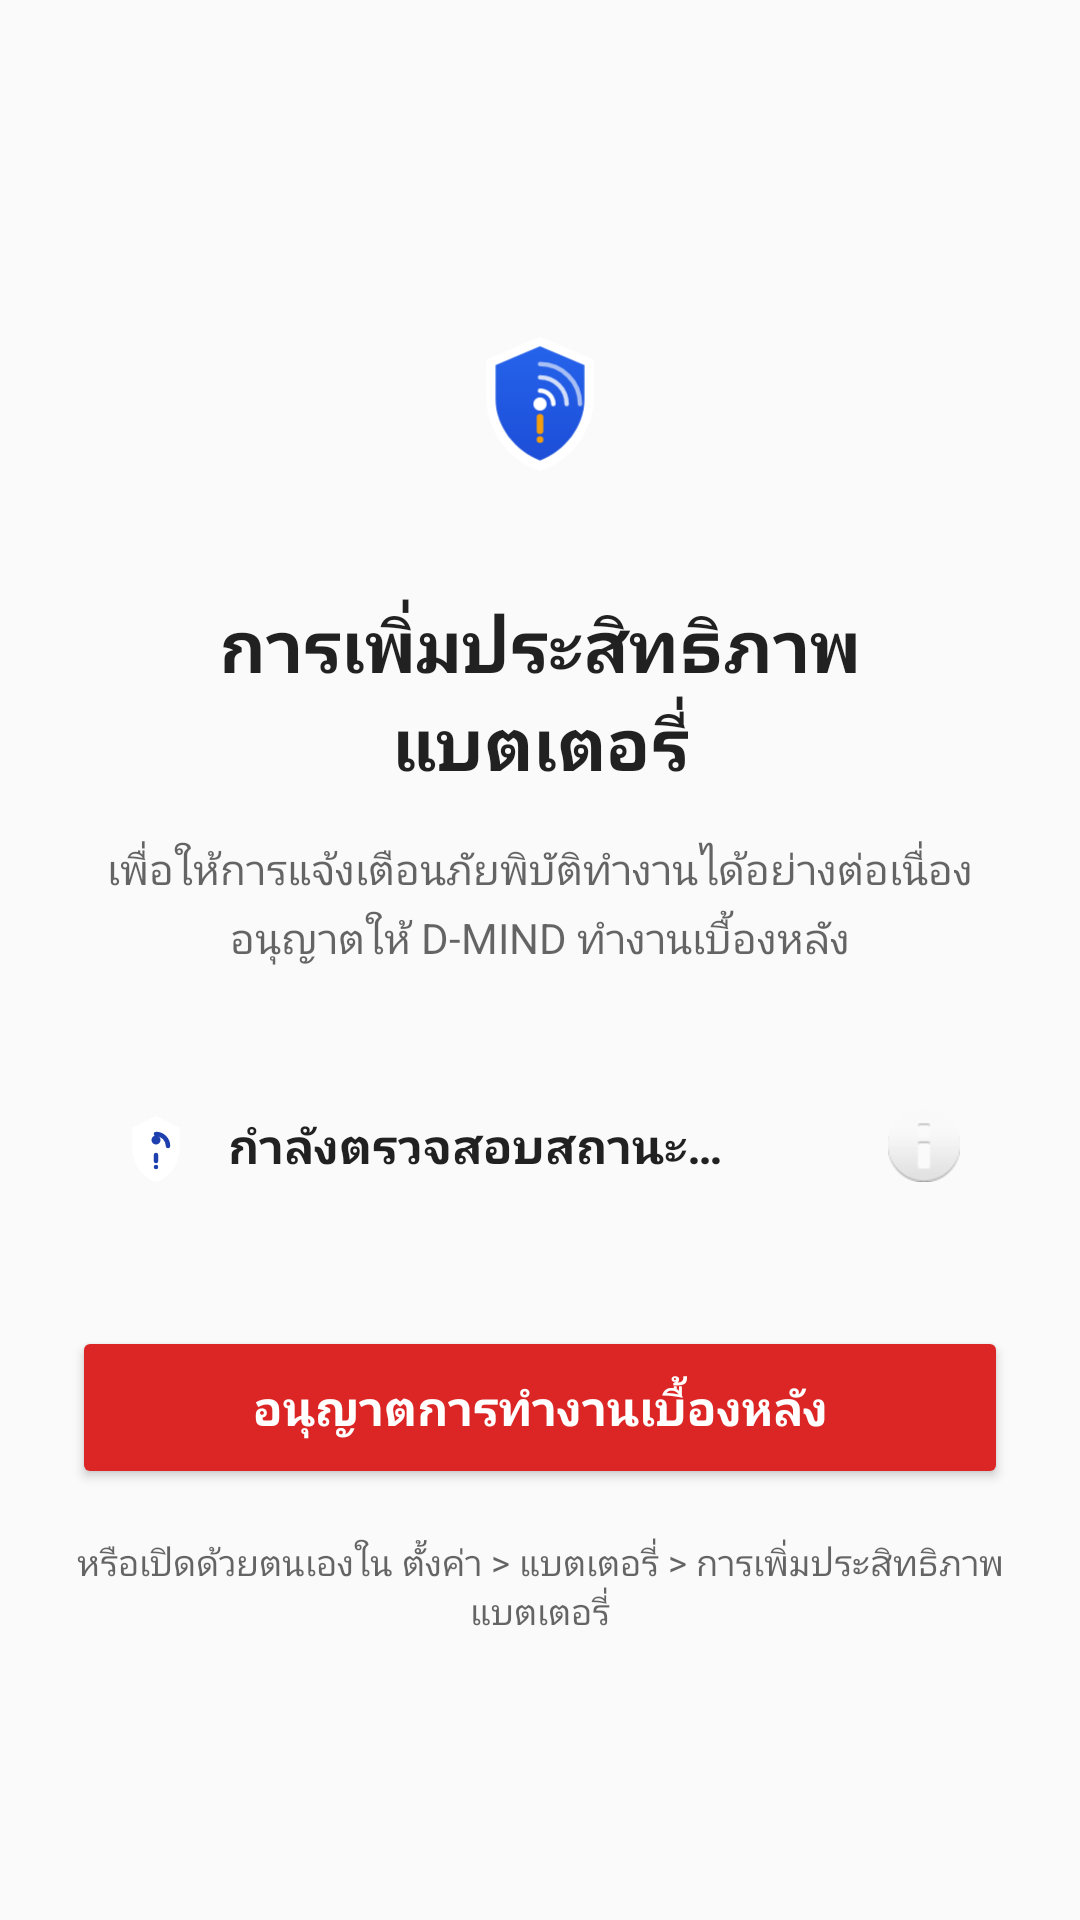

Named icons in this screenshot (1080px x 1920px) and their centers, [x,y]:
Info: [924,1152]
